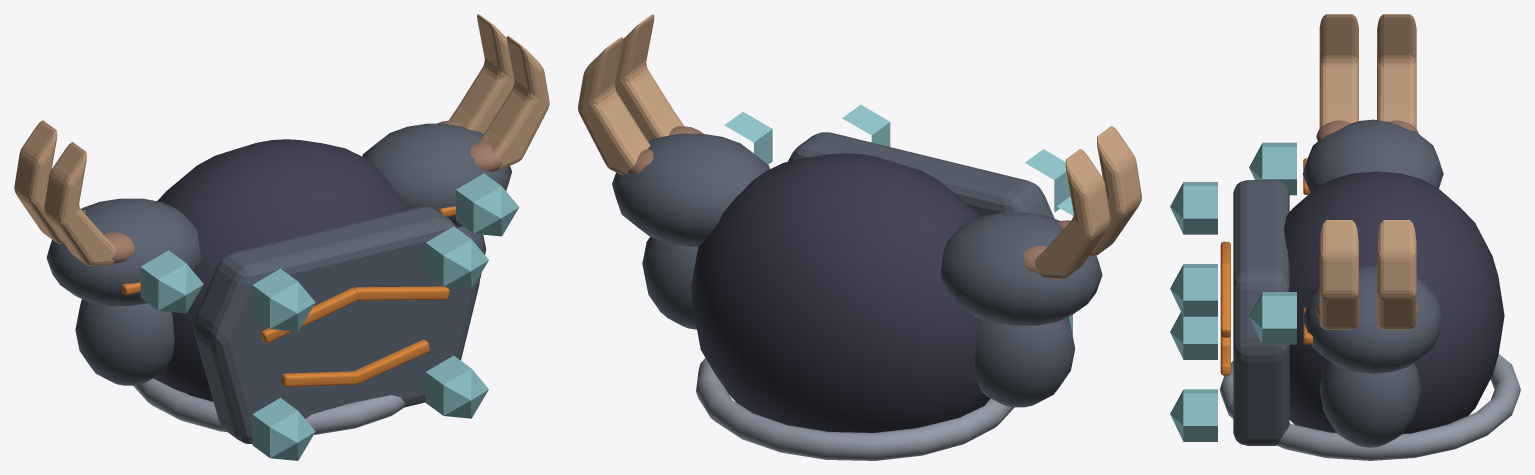
The model's file is armor_magmamail.glb.
3 views of the same model, side by side, from view 1: azimuth 30°, elevation 25°; view 2: azimuth 150°, elevation 25°; view 3: azimuth 270°, elevation 25° (orthographic). The views are drawn at different scales.
Visible parts, largest first — view 1: magma_crystal_rivet.001, magma_crystal_rivet, magma_crystal_rivet.003; view 2: magma_crystal_rivet.001, magma_crystal_rivet, magma_crystal_rivet.003; view 3: magma_crystal_rivet.001, magma_crystal_rivet.003, magma_crystal_rivet.
Boxes of the visible parts, x1,y1,x2,y2 form: magma_crystal_rivet.001: (133,139,488,460); magma_crystal_rivet: (14,120,203,385); magma_crystal_rivet.003: (362,14,549,278); magma_crystal_rivet.001: (690,104,1072,460); magma_crystal_rivet: (940,126,1141,407); magma_crystal_rivet.003: (578,14,772,329); magma_crystal_rivet.001: (1170,171,1520,460); magma_crystal_rivet.003: (1249,220,1443,447); magma_crystal_rivet: (1249,14,1443,195).
Size of the model in its own units: 0.972 by 0.6417 by 0.622.
